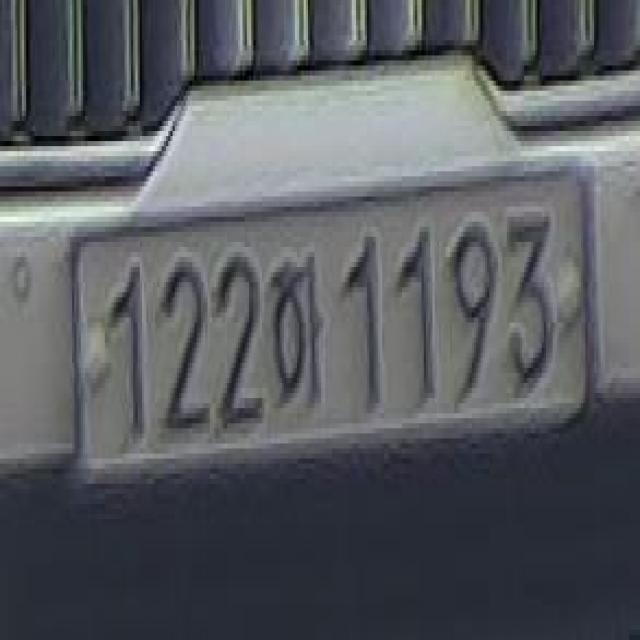illegal_plate: (68, 157, 600, 490)
